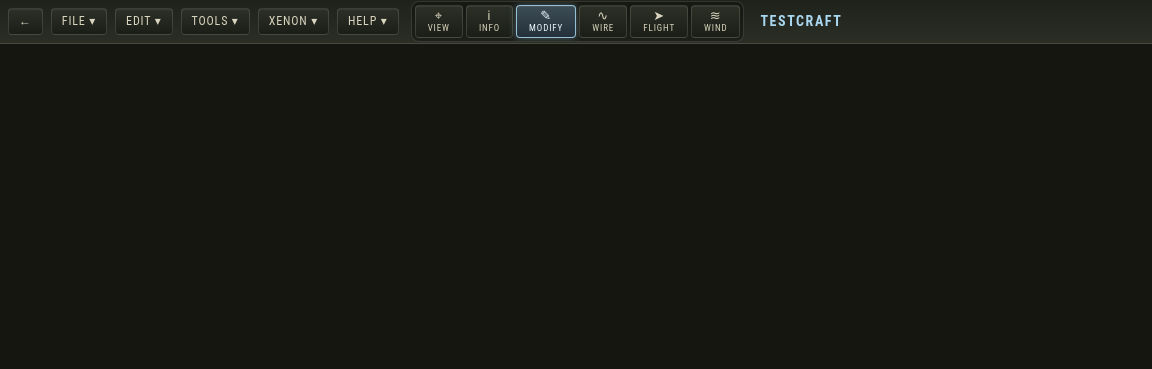
TopBar — Xenon ▾ debugger-mode warning (v1.13.18) › non-isolated origin (jsdom: no crossOriginIsolated) ⇒ the amber CYCLE-GRANULAR warning
Click the button with test id "xenon-menu" at (293, 22), box x1=258 y1=8 x2=329 y2=35
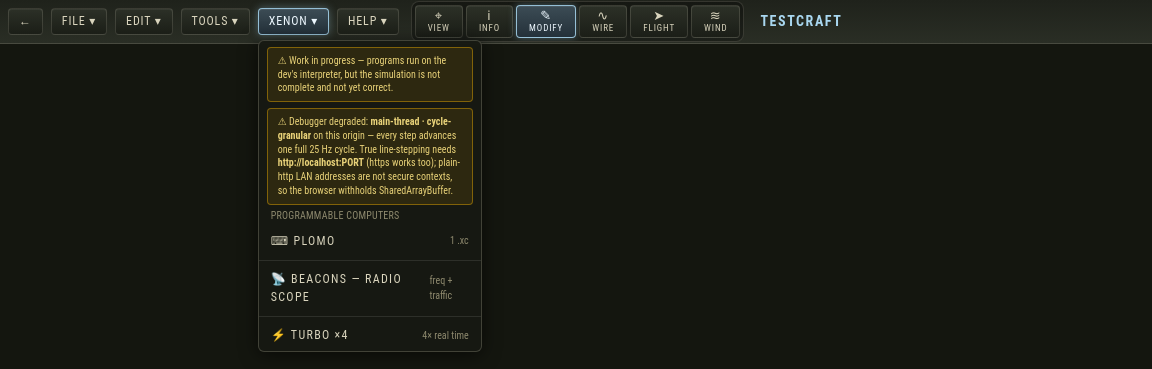
Expected: the element with test id "xenon-sab-warn" shows "cycle-granular", x1=278 y1=116 x2=451 y2=141
Expected: the element with test id "xenon-sab-warn" shows "http://localhost", x1=278 y1=157 x2=364 y2=168
